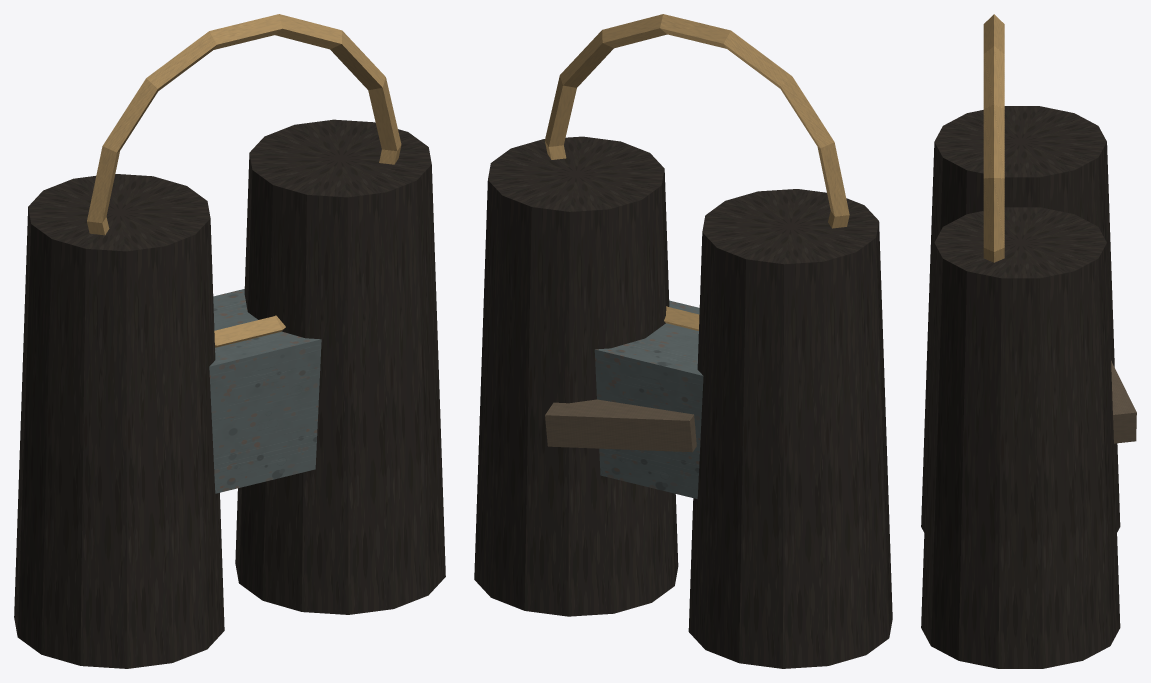
The model's file is ax-tool-005_binoculars__worn.obj.
3 views of the same model, side by side, from view 1: azimuth 30°, elevation 25°; view 2: azimuth 150°, elevation 25°; view 3: azimuth 270°, elevation 25° (orthographic). The views are drawn at different scales.
Parts seen in each view (by area): view 1: ax-tool-005_binoculars__worn; view 2: ax-tool-005_binoculars__worn; view 3: ax-tool-005_binoculars__worn.
Part boxes in pixels (x1=…): ax-tool-005_binoculars__worn: x1=14, y1=14, x2=445, y2=668; ax-tool-005_binoculars__worn: x1=474, y1=14, x2=892, y2=668; ax-tool-005_binoculars__worn: x1=921, y1=14, x2=1136, y2=668.
Bounding box in the file's own units: 0.1577 × 0.2199 × 0.0786.
Materials: 4 (4 with a texture image).
